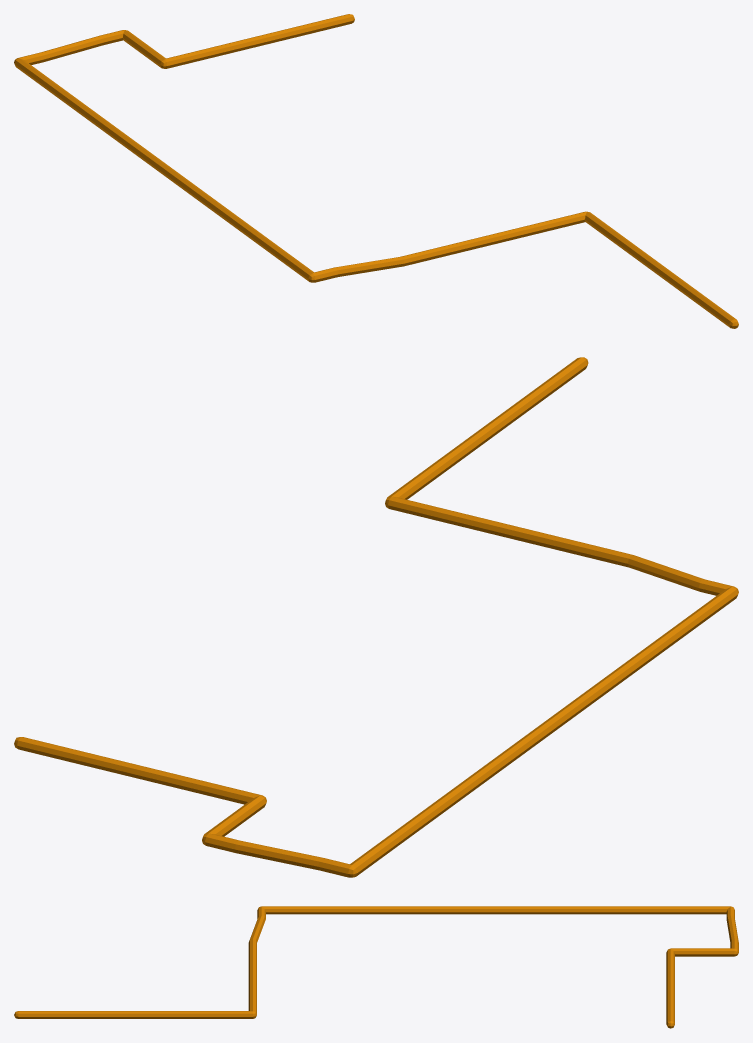
3 renders of one model, top to bottom at view 1: azimuth 30°, elevation 25°; view 2: azimuth 150°, elevation 25°; view 3: azimuth 270°, elevation 25°, orthographic. The views are drawn at different scales.
Bounding box in the file's own units: 654 × 20 × 1700.
